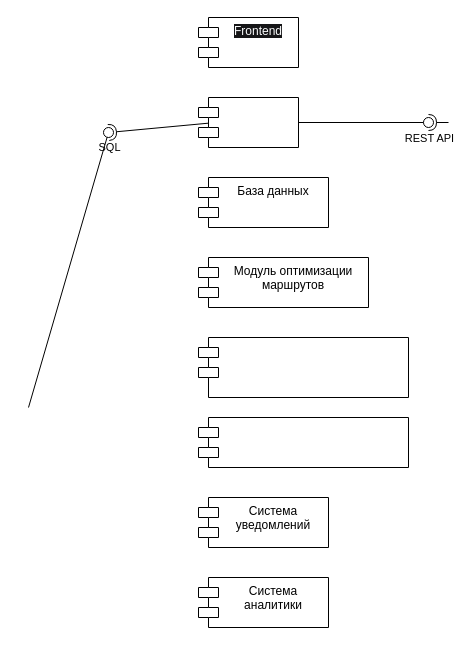
Some shapes in this 474 by 645 pixel diagram are drawn without their labels. Here are the shapes that lost their labels. From the top down, the box of each, then its label:
(198, 96, 298, 148): Backend
(198, 336, 408, 398): Модуль интеграции с курьерскими службами
(198, 416, 408, 468): Модуль управления складом
